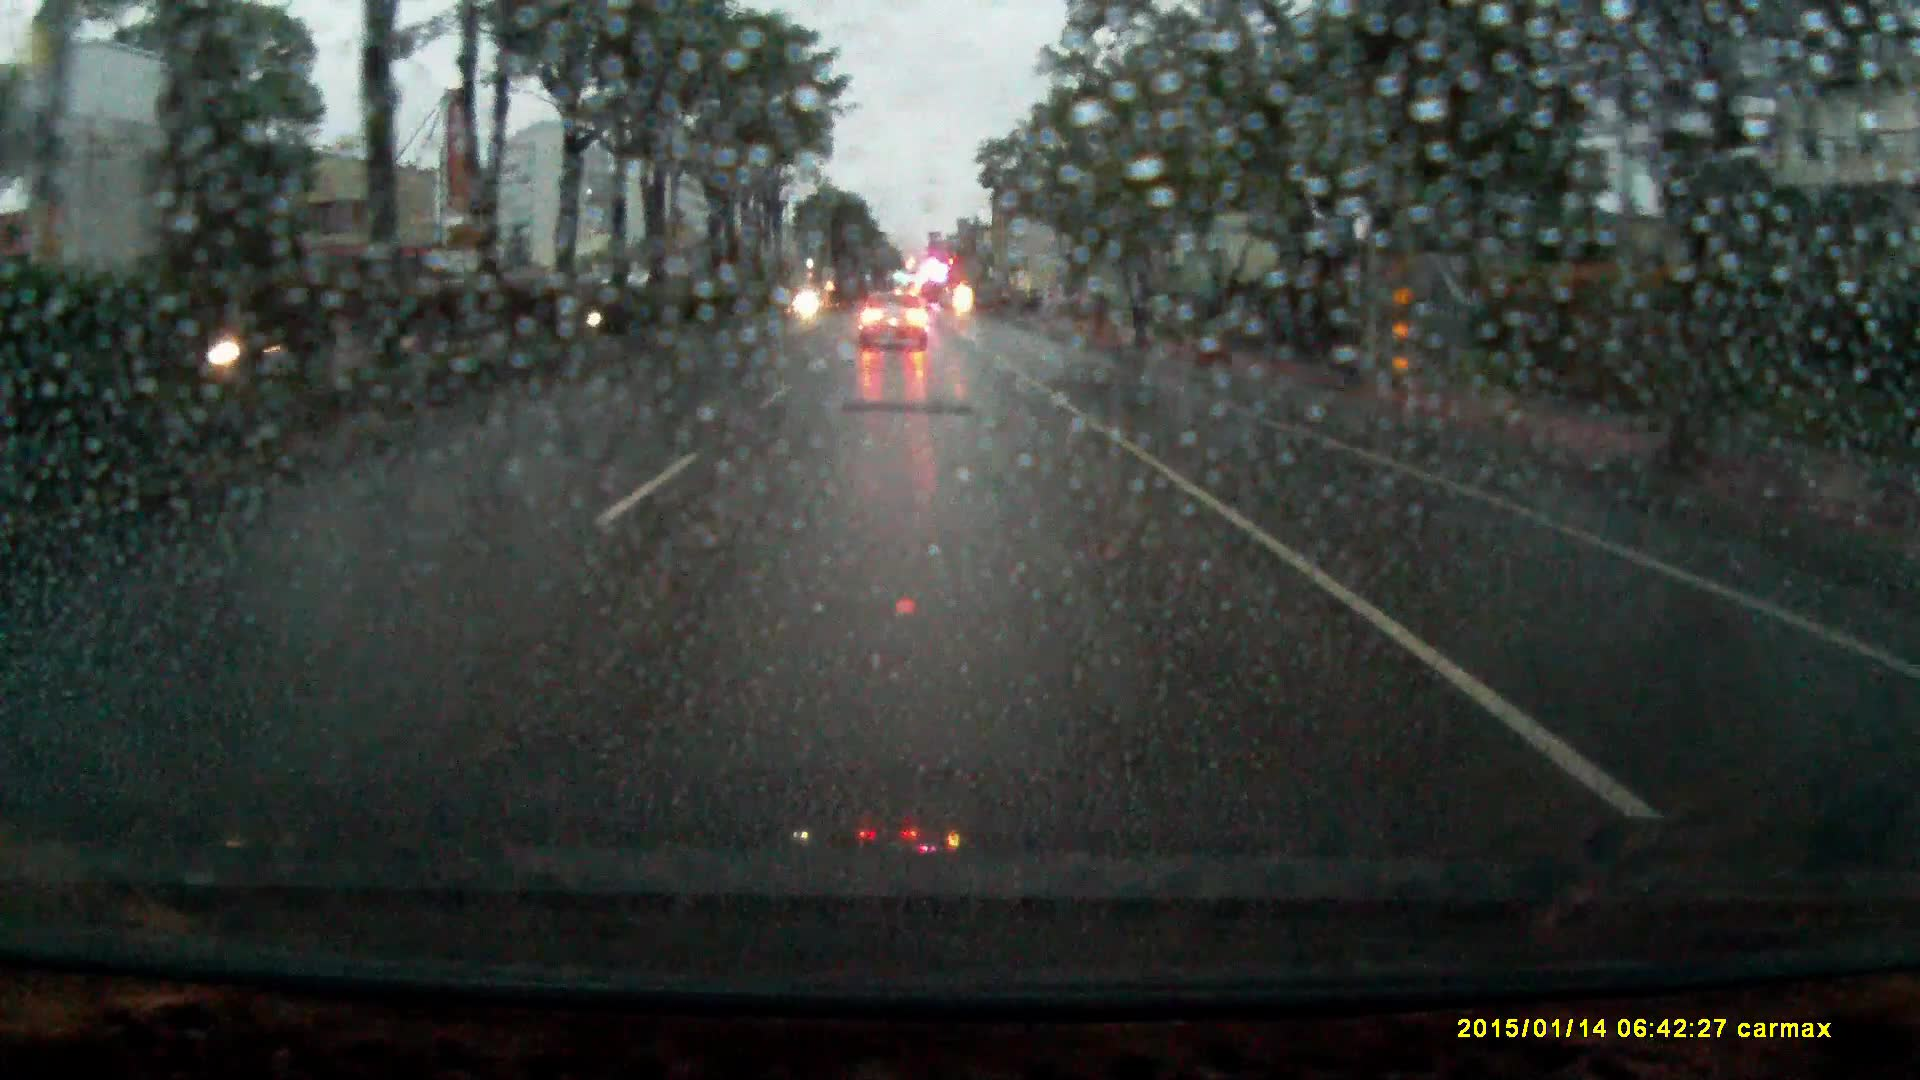vehicle: (858, 287, 930, 347)
